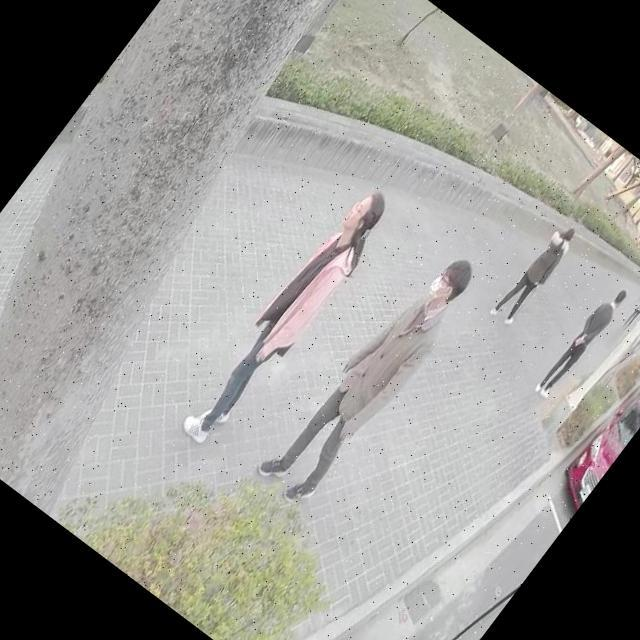person: (253, 233, 488, 512), (176, 180, 400, 455), (528, 280, 628, 403), (488, 217, 581, 328), (618, 275, 640, 332)
